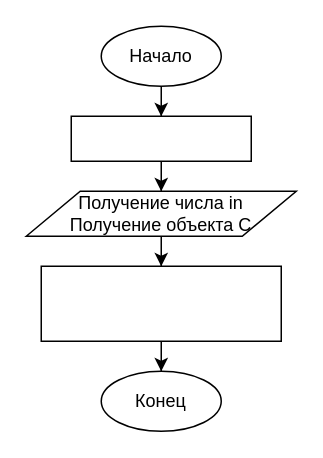
Some shapes in this 323 by 458 pixel diagram are drawn without their labels. Each missing label, with the box of its shape:
in = in < size ? in : size - 1 x[in] = xi.x i[in] = xi.i: (40, 265, 281, 341)
Целове число in Объекс C: (70, 115, 251, 161)
